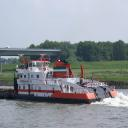tugboat: (13, 52, 121, 108)
